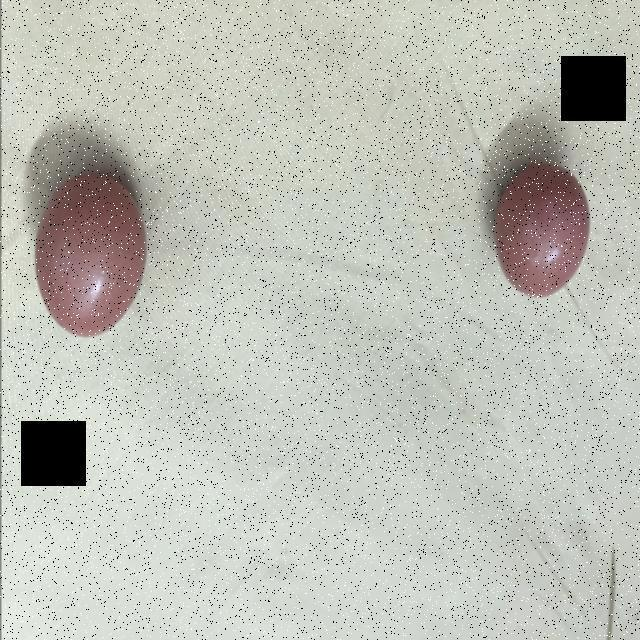egg: (34, 171, 152, 343), (492, 158, 594, 302)
